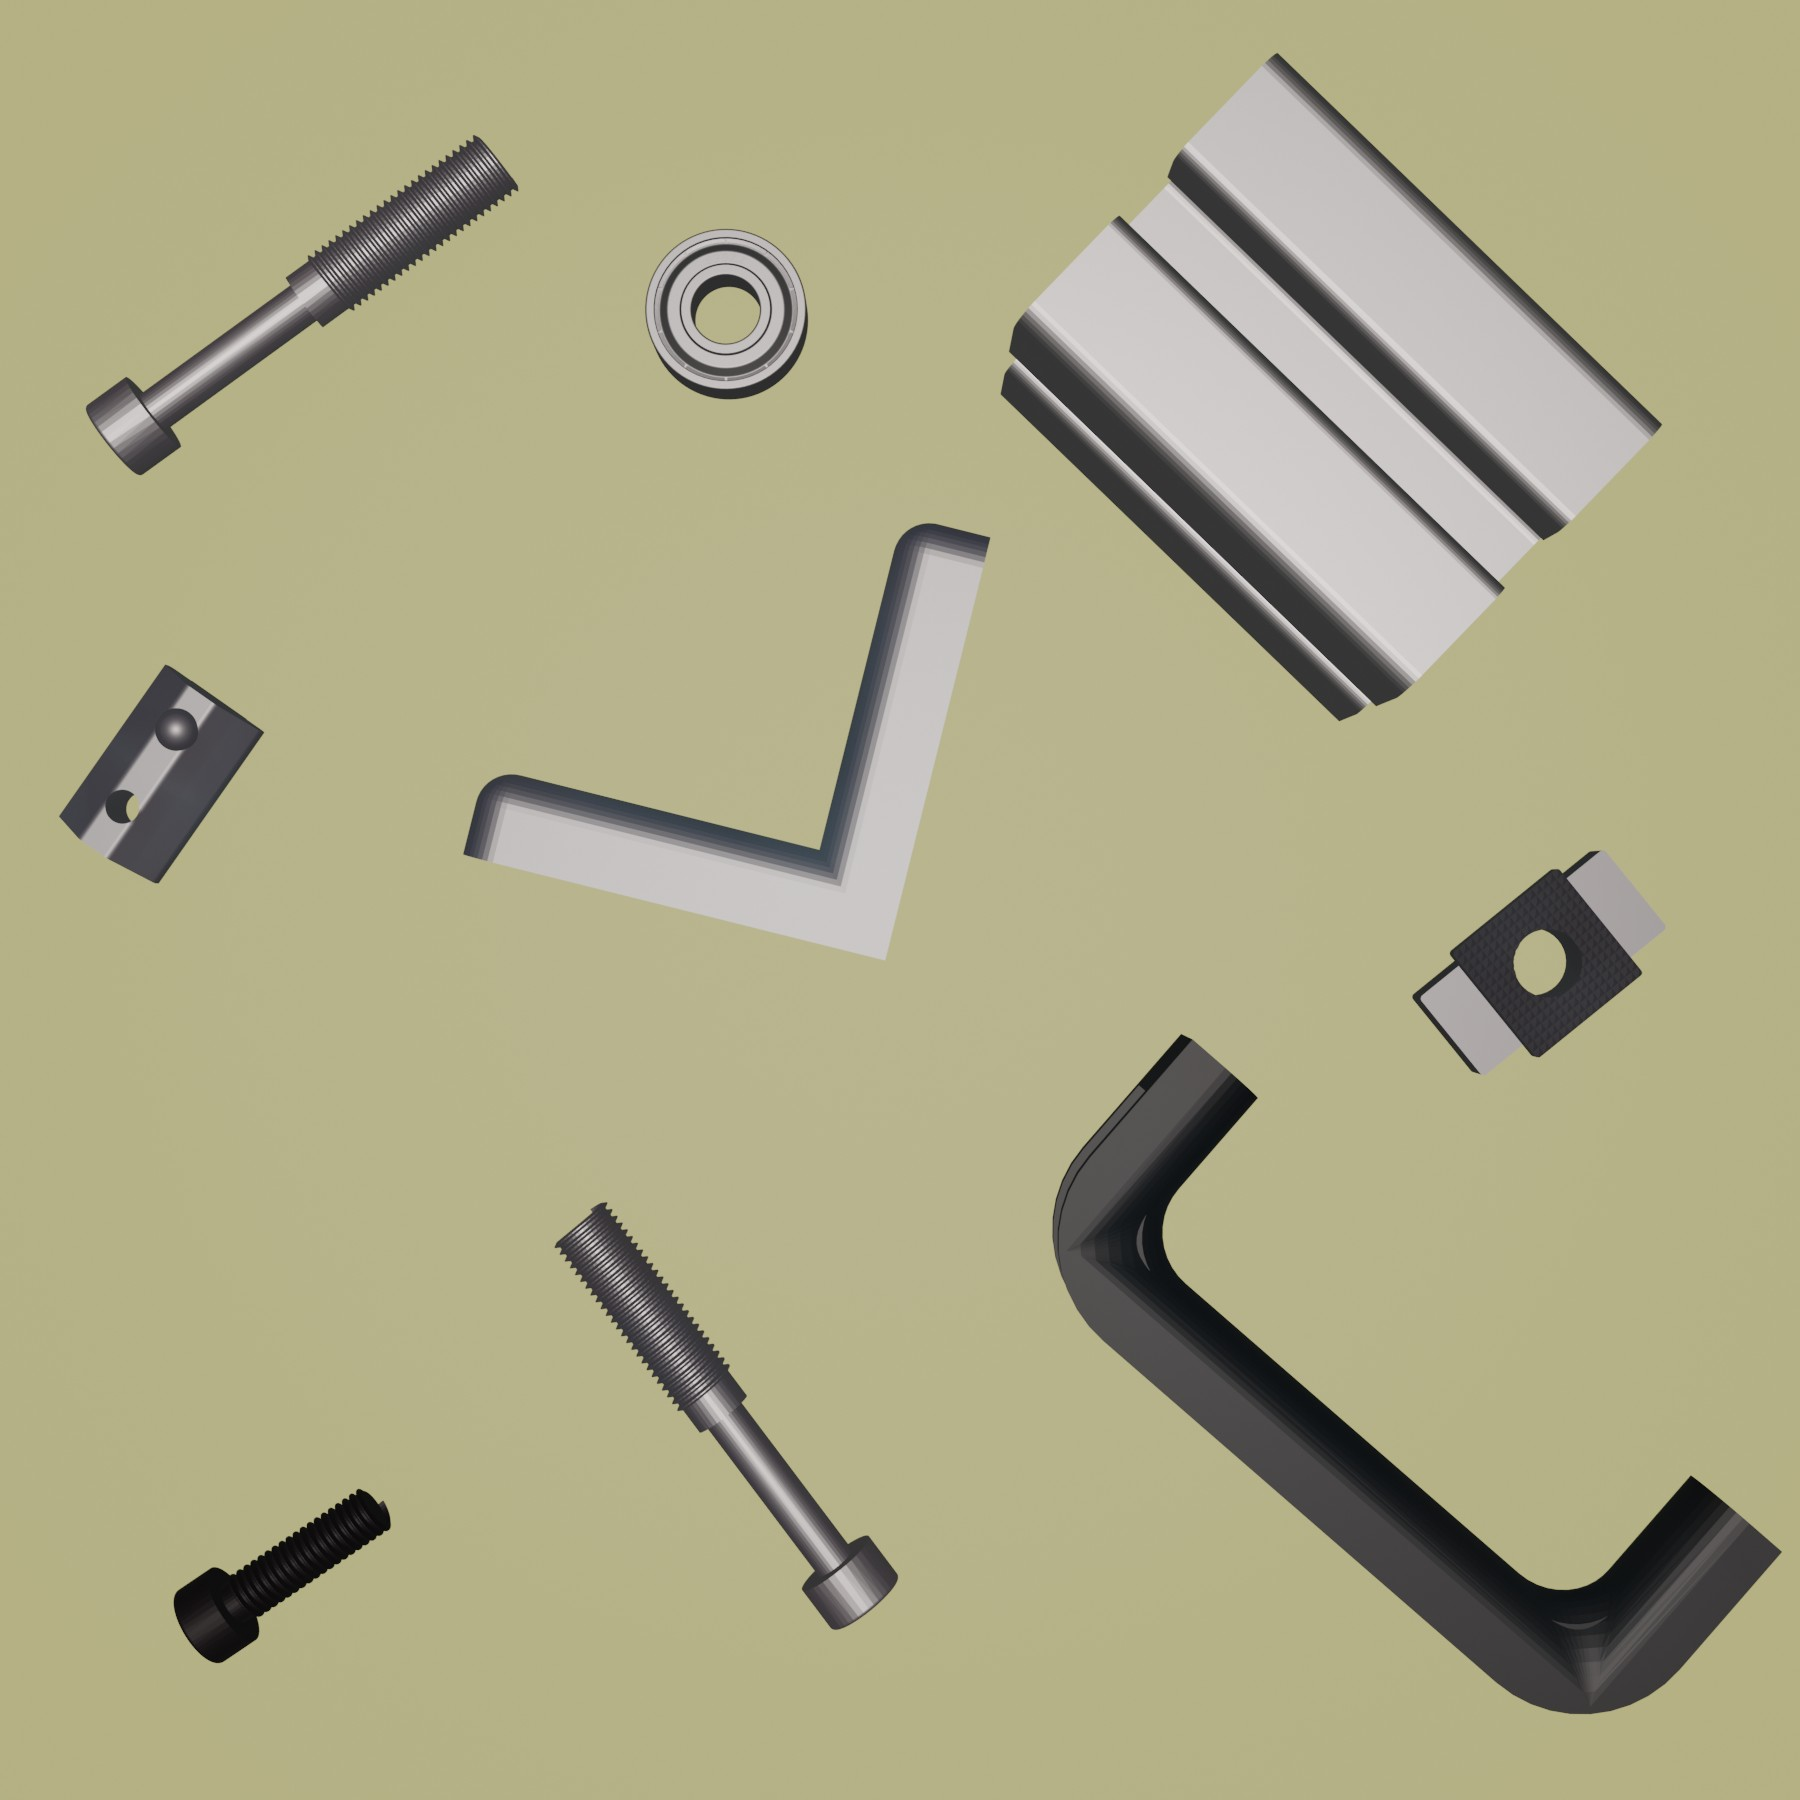Aluminium Extension: (997, 51, 1666, 724)
Ball Bearing: (641, 224, 811, 401)
Multiwinkel: (458, 519, 992, 964)
Pull Handle: (1050, 1034, 1787, 1716)
Shoulder Socket Head Cap Screw: (81, 132, 523, 478), (551, 1198, 900, 1632)
Socket Head Cap Screw: (171, 1485, 392, 1665)
T Nut Square: (1413, 846, 1670, 1076)
T Spring Nut: (54, 661, 265, 887)
